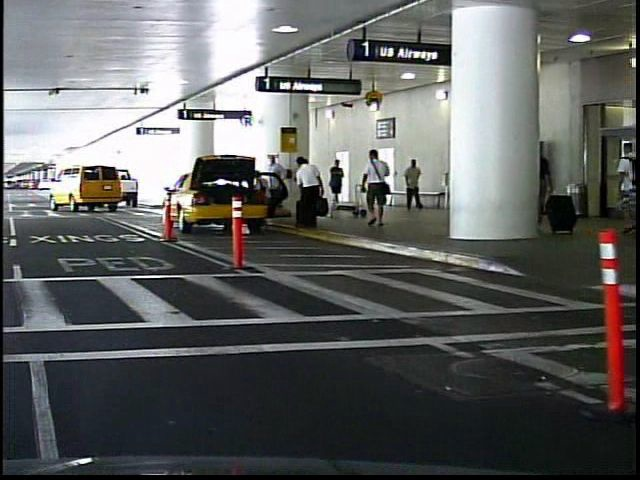person: (484, 137, 524, 236), (354, 146, 391, 231), (605, 140, 637, 234), (400, 153, 421, 215)
